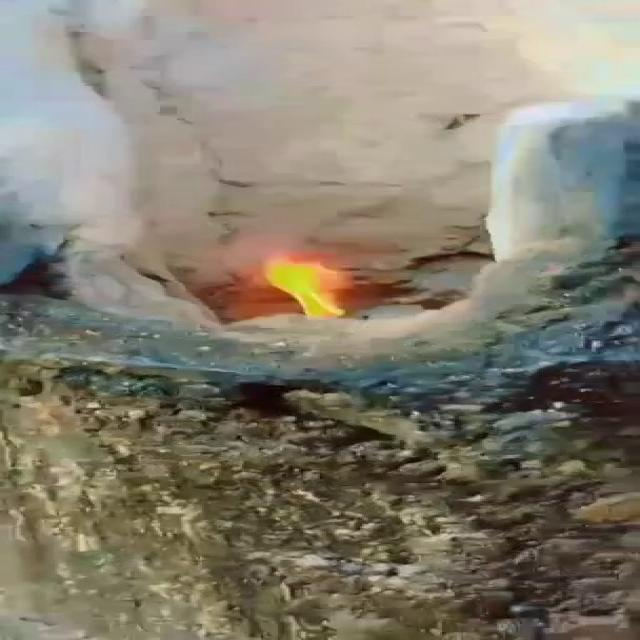Fire: (263, 257, 381, 319)
